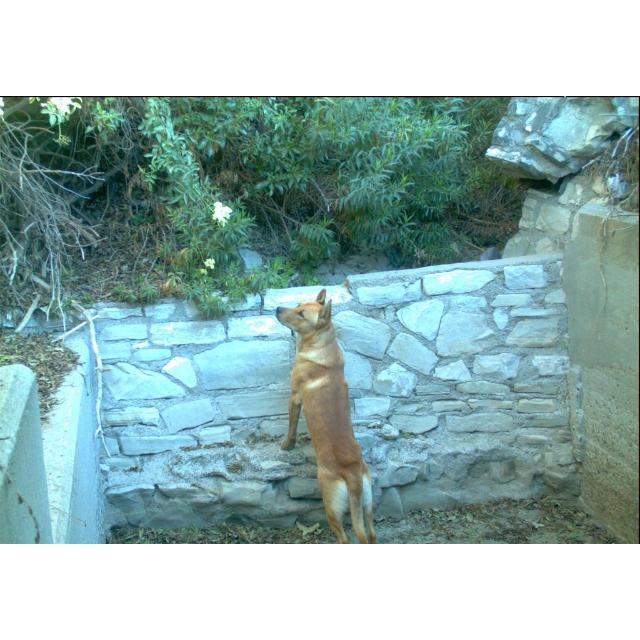animals: (274, 285, 380, 545)
